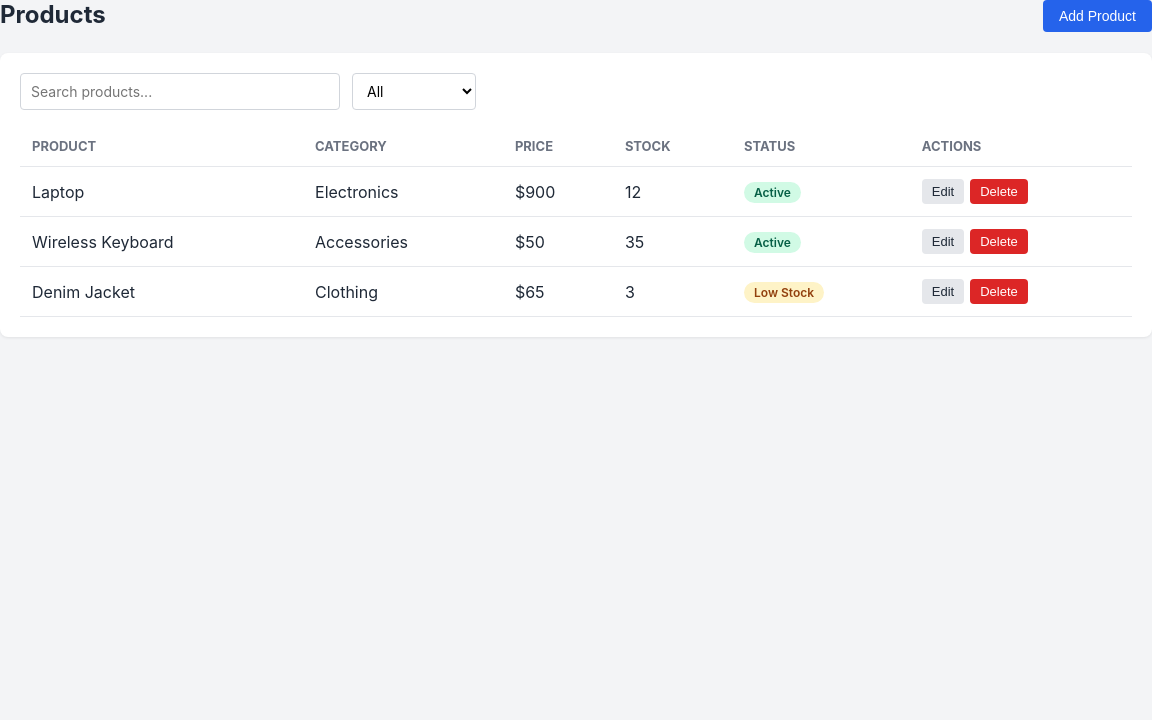
Test case: opens the add product form
Expected: the text "Laptop" is shown, [20,166,303,216]
What coordinates should you click on to do the following:
click the button "Add Product"
I would click on:
 (1097, 16)
Its box is [1043,0,1151,32].
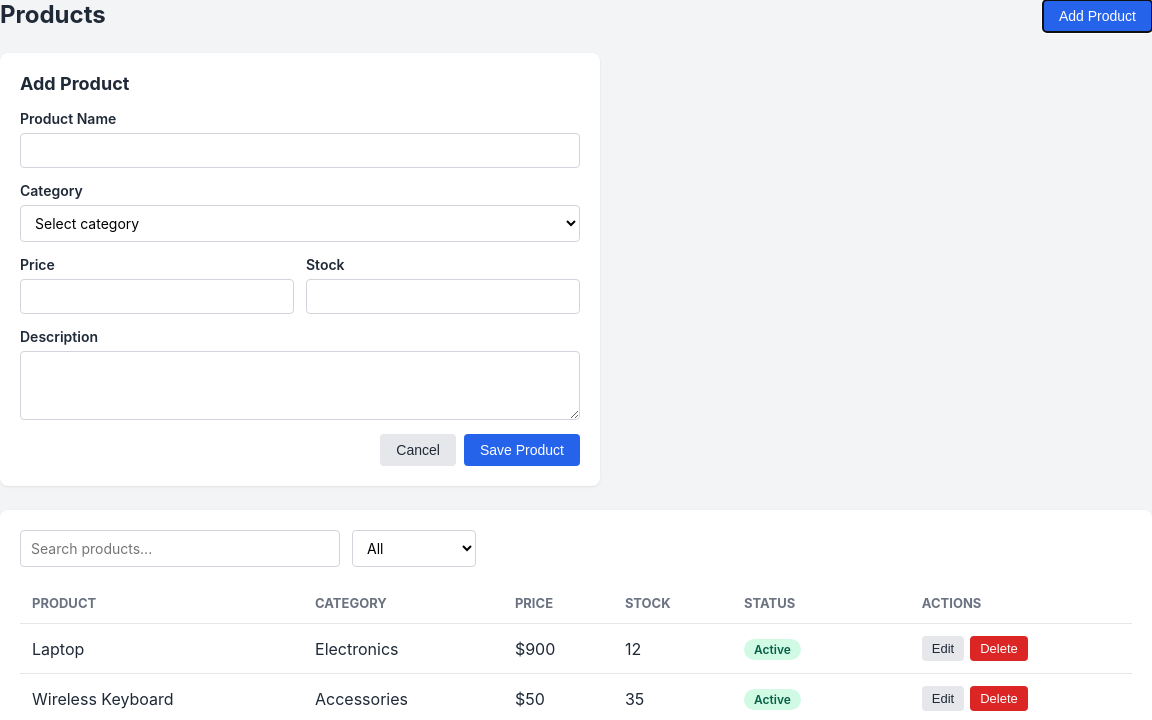
Expected: the field labelled "Product Name" is shown, [20,133,580,168]
Expected: the dropdown labelled "Category" is shown, [20,205,580,242]
Expected: the number field labelled "Price" is shown, [20,279,294,314]
